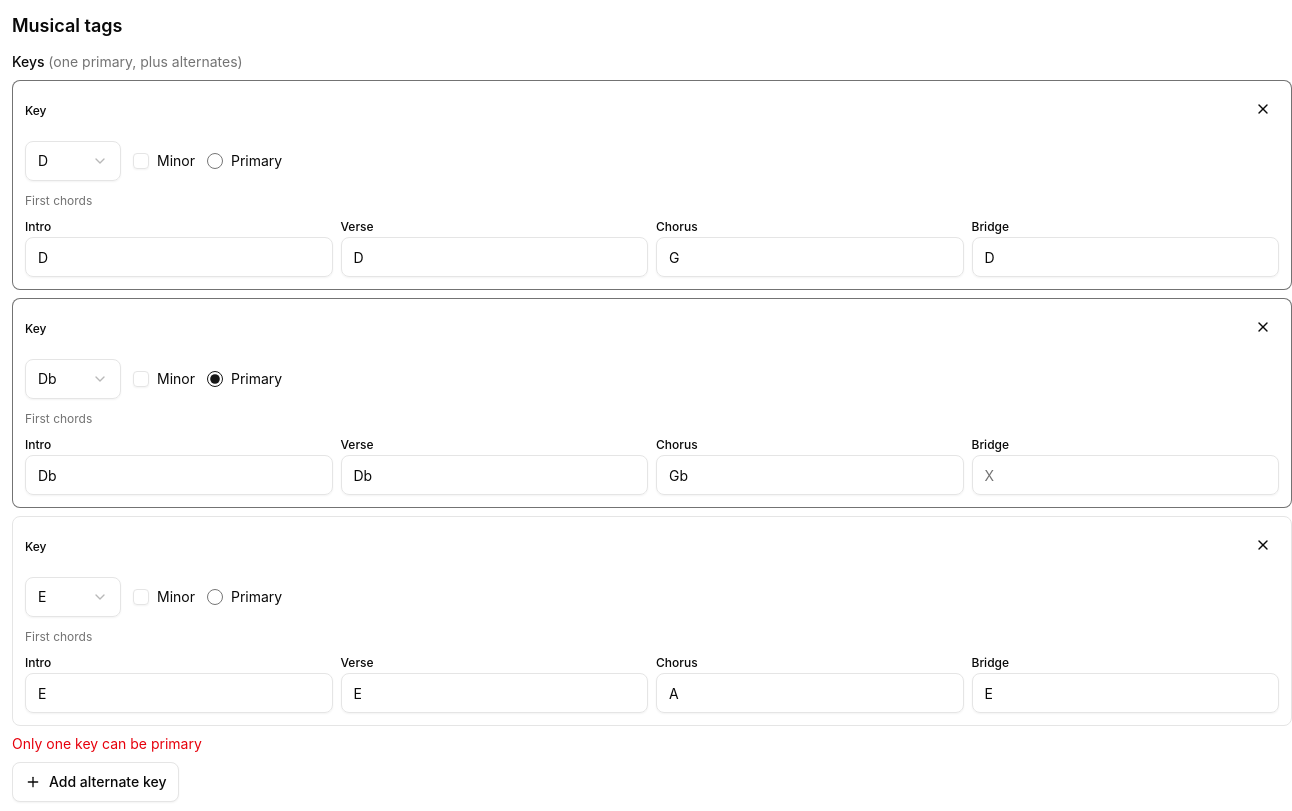
Scenario: MusicalSection › shows an inline error for two primaries, cleared by choosing one
Expected: the list item "Only one key can be primary" is shown, [12, 735, 202, 752]
Click the radio button with aria-label "Primary key (E)": {"x": 215, "y": 597} [207, 589, 223, 605]
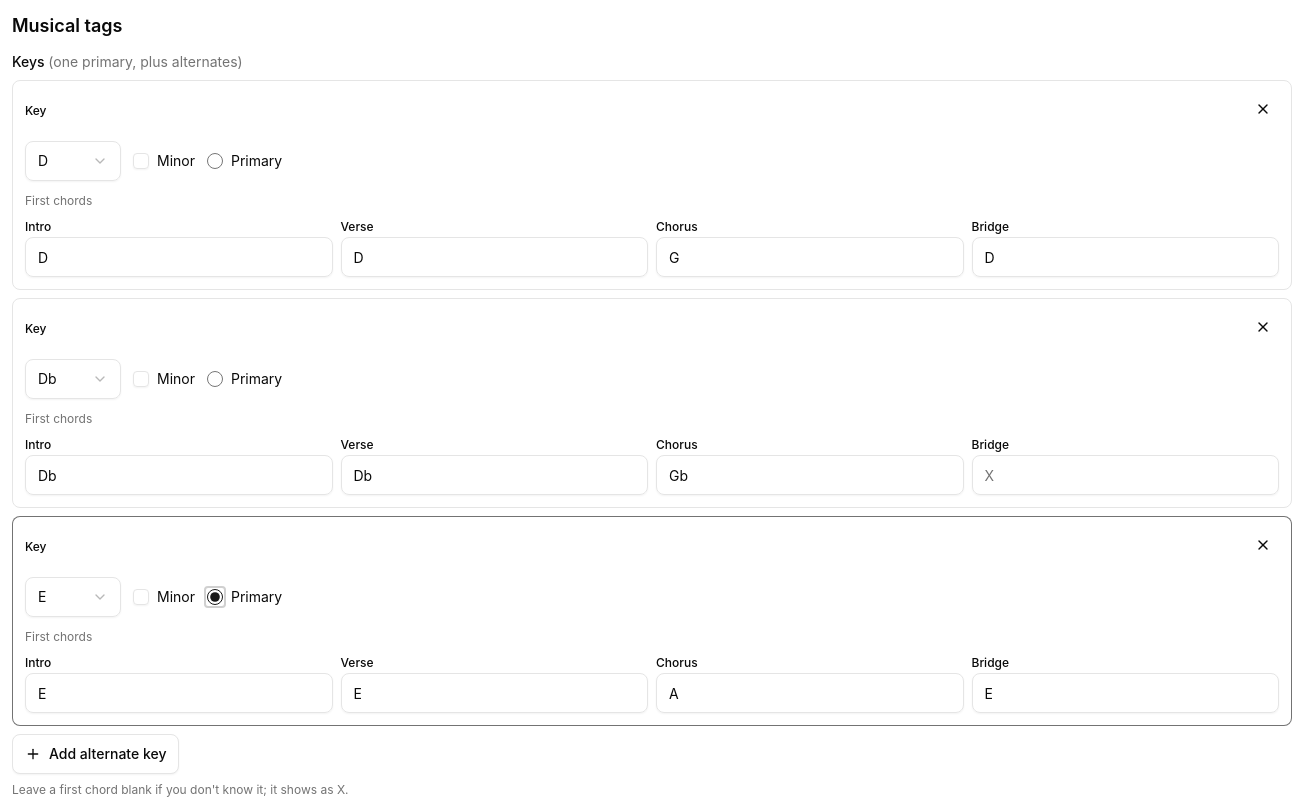
Expected: the list item "Only one key can be primary" is gone
